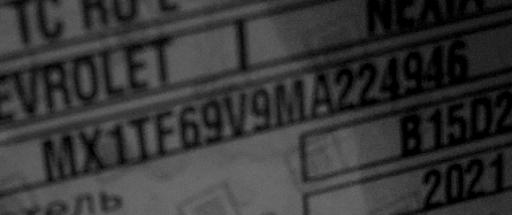letter: (70, 130, 112, 179), (80, 129, 108, 173)
